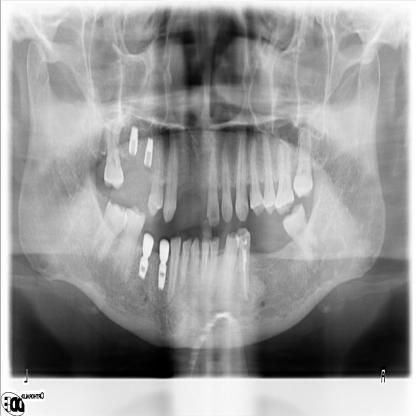Bicon: (128, 126, 139, 155), (144, 136, 154, 167), (138, 258, 149, 280), (158, 262, 166, 290)
